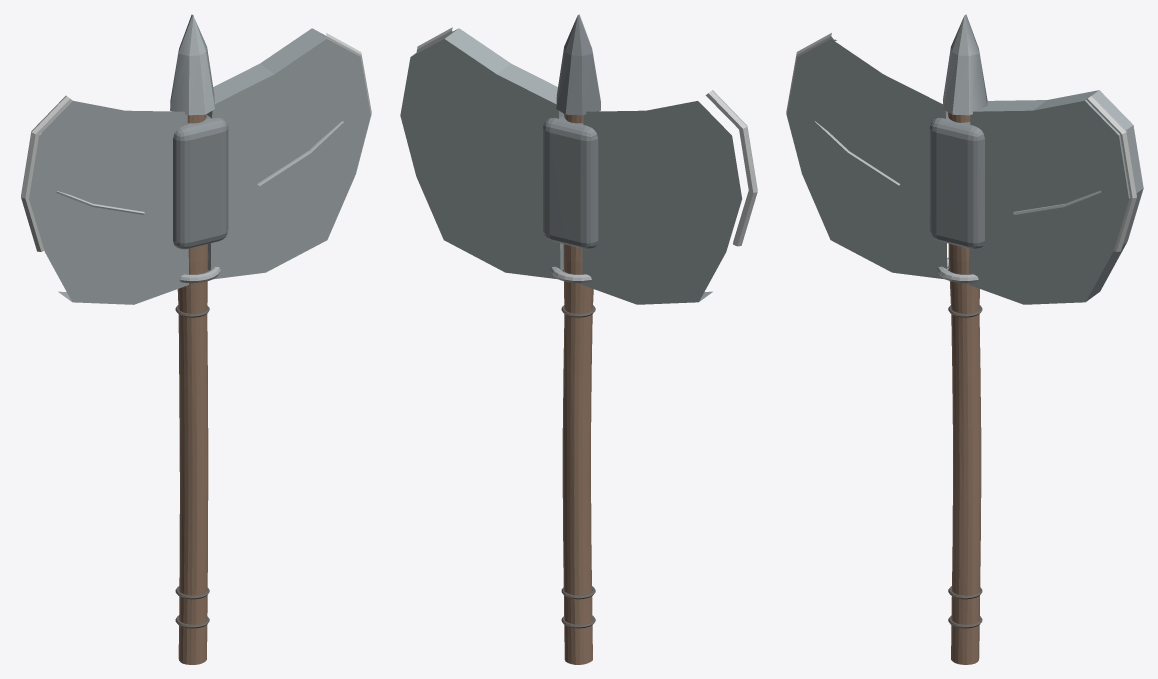
Rendered from strijdbijl.glb.
3 views of the same model, side by side, from view 1: azimuth 30°, elevation 25°; view 2: azimuth 150°, elevation 25°; view 3: azimuth 330°, elevation 25° (orthographic).
Parts seen in each view (by area): view 1: strijdbijl; view 2: strijdbijl; view 3: strijdbijl.
Part boxes in pixels (x1=…): strijdbijl: x1=21, y1=14, x2=371, y2=664; strijdbijl: x1=400, y1=14, x2=757, y2=664; strijdbijl: x1=786, y1=14, x2=1143, y2=664.
Bounding box in the file's own units: 0.484 × 0.85 × 0.068.
